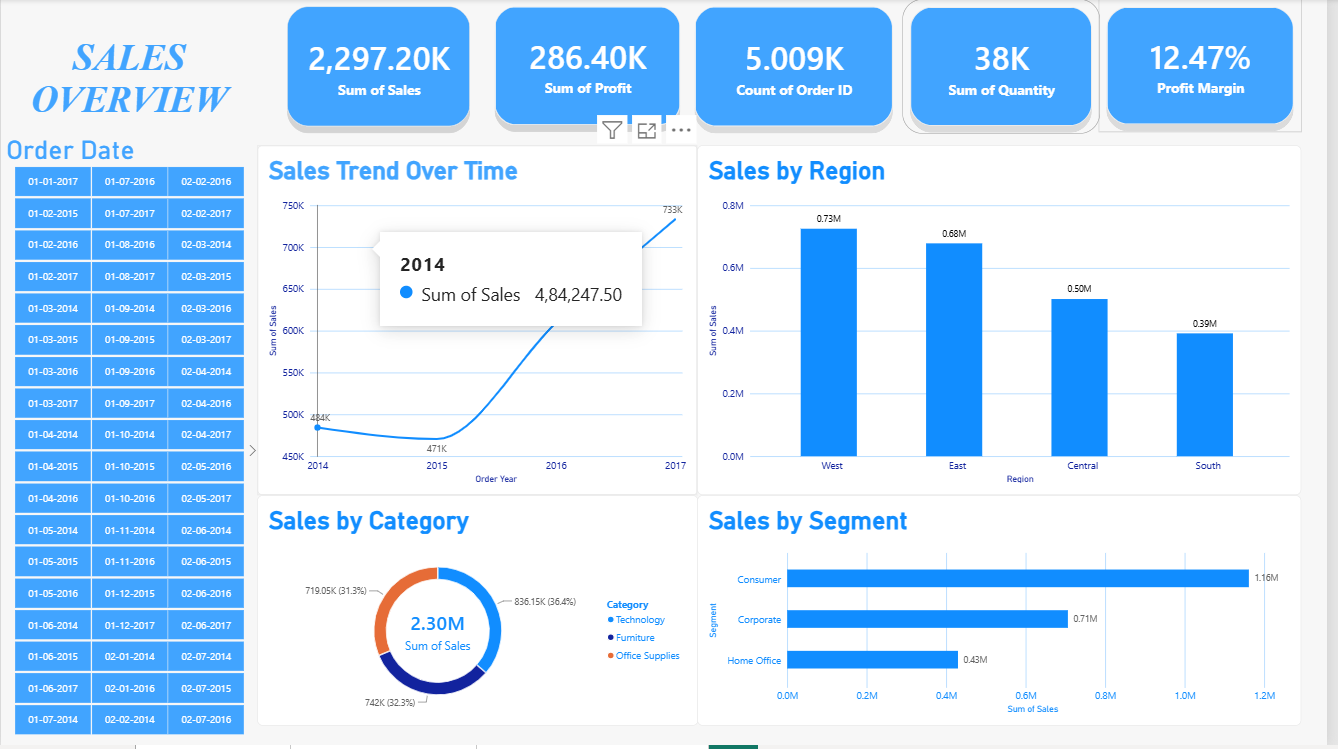

What the dashboard file says about the page in this screenshot:
{"tool":"powerbi","page":{"name":"Sales_Overview","canvas":[1920,1080],"ordinal":0},"visuals":[{"type":"cardVisual","title":"Total Sales","fields":{"Data":["Sum(Superstore.Sales)"]},"box":[403.4,0,286.1,195.5],"z":0},{"type":"cardVisual","fields":{"Data":["Sum(Superstore.Profit)"]},"box":[703.9,0,290.2,193.5],"z":1000},{"type":"cardVisual","fields":{"Data":["Sum(Superstore.Quantity)"]},"box":[1305,0,286.1,195.5],"z":2000},{"type":"cardVisual","fields":{"Data":["Count(Superstore.Order ID)"]},"box":[994.2,0,308.7,195.5],"z":3000},{"type":"cardVisual","fields":{"Data":["Superstore.Measure"]},"box":[1589,0,294.3,193.5],"z":4000},{"type":"lineChart","title":"Sales Trend Over Time","fields":{"Category":["Superstore.Order Year"],"Y":["Sum(Superstore.Sales)"]},"box":[370.5,212,638.1,506.3],"z":5000},{"type":"clusteredColumnChart","title":"Sales by Region","fields":{"Category":["Superstore.Region"],"Y":["Sum(Superstore.Sales)"]},"box":[1008.6,212,874.8,506.3],"z":6000},{"type":"donutChart","title":"Sales by Category","fields":{"Category":["Superstore.Category"],"Y":["Sum(Superstore.Sales)"]},"box":[370.5,718.4,638.1,333.4],"z":7000},{"type":"barChart","title":"Sales by Segment","fields":{"Category":["Superstore.Segment"],"Y":["Sum(Superstore.Sales)"]},"box":[1008.6,718.4,874.8,333.4],"z":8000},{"type":"slicer","fields":{"Values":["Superstore.Order Date"]},"box":[0,195.5,370.5,870.7],"z":9000},{"type":"textbox","box":[0,0,370.5,195.5],"z":9001}]}

Visuals, with their boxes in screenshot pixels (x1, y1, x2, y2), scaled from the page's 1920x1080 canvas onto the 1338x749 screenshot:
"Total Sales" cardVisual: 281,0,480,136
cardVisual - Sum(Superstore.Profit): 491,0,693,134
cardVisual - Sum(Superstore.Quantity): 909,0,1109,136
cardVisual - Count(Superstore.Order ID): 693,0,908,136
cardVisual - Superstore.Measure: 1107,0,1312,134
"Sales Trend Over Time" lineChart: 258,147,703,498
"Sales by Region" clusteredColumnChart: 703,147,1312,498
"Sales by Category" donutChart: 258,498,703,729
"Sales by Segment" barChart: 703,498,1312,729
slicer - Superstore.Order Date: 0,136,258,739
textbox: 0,0,258,136
